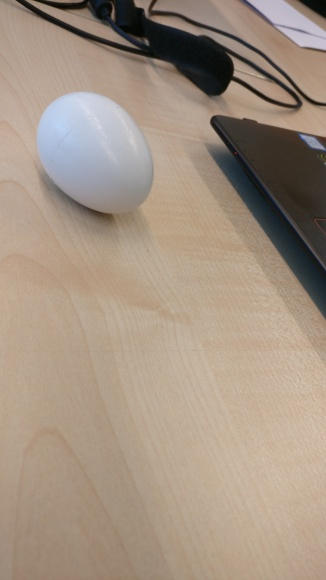egg: (34, 91, 155, 217)
